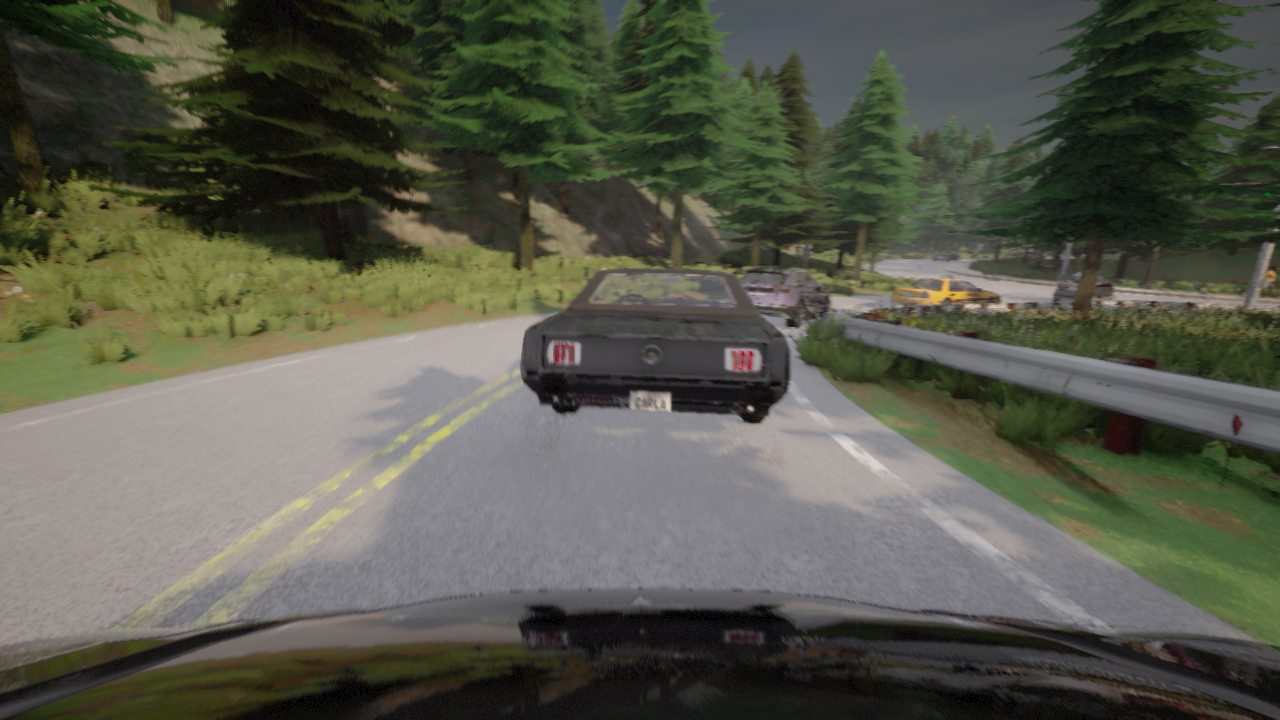cyclist: (0, 588, 1279, 719), (521, 268, 789, 422), (740, 266, 830, 327), (890, 274, 1000, 306), (1052, 273, 1113, 301), (1011, 250, 1045, 259), (932, 251, 958, 261)
pedestrian: (1259, 265, 1278, 296)
